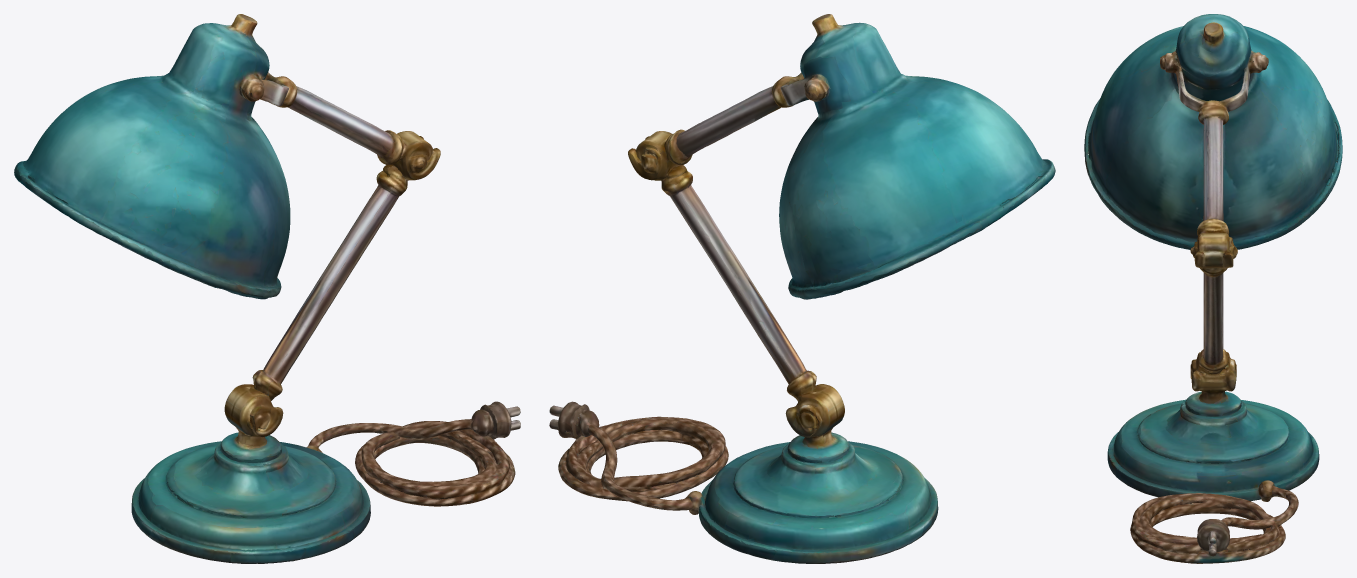
Rendered from lamp-fixed.glb.
The picture shows the model from 3 angles, left to right: view 1: azimuth 30°, elevation 25°; view 2: azimuth 150°, elevation 25°; view 3: azimuth 270°, elevation 25°; orthographic projection. The views are drawn at different scales.
Visible parts, largest first — view 1: geometry_0; view 2: geometry_0; view 3: geometry_0.
Boxes of the visible parts, x1,y1,x2,y2 form: geometry_0: (14,14,520,563); geometry_0: (549,14,1055,563); geometry_0: (1084,14,1342,563).
Bounding box in the file's own units: 0.4521 × 0.45 × 0.2421.
Materials: 1 (1 with a texture image).
